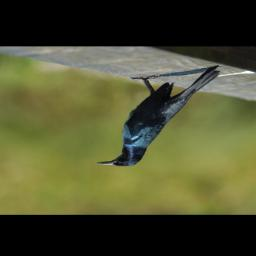Crow: (97, 66, 224, 168)
